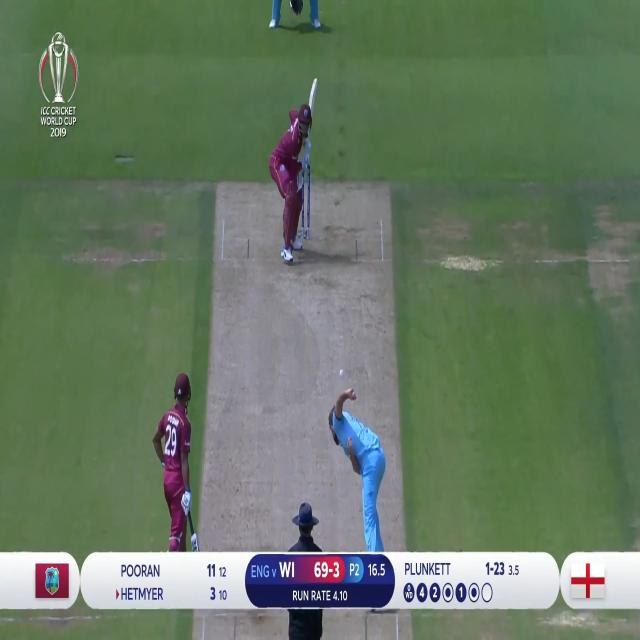ball: (334, 363, 348, 383)
